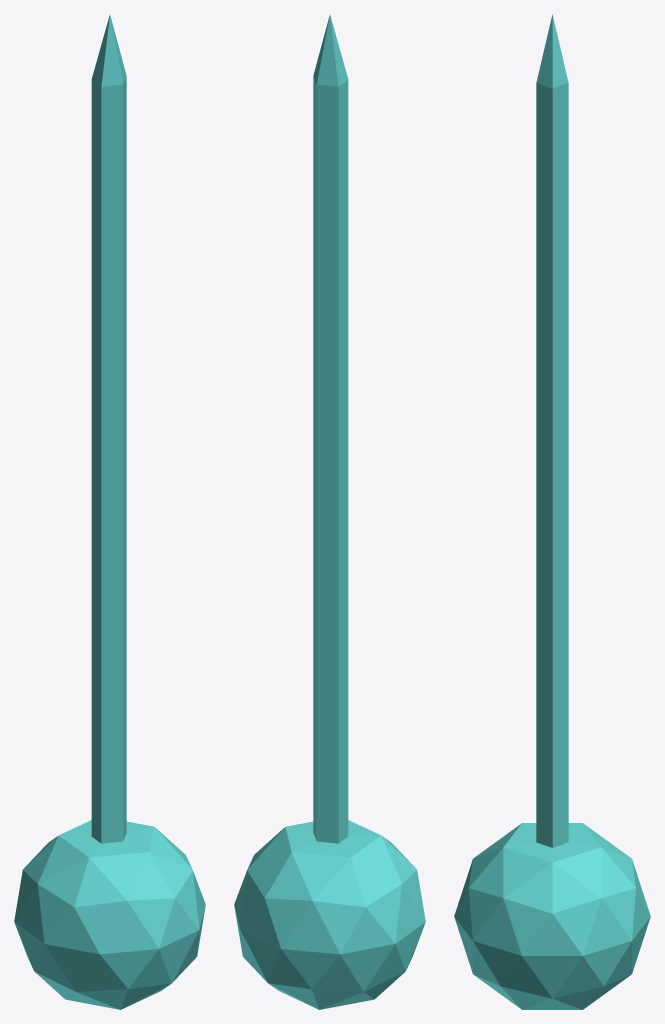
3 renders of one model, left to right at view 1: azimuth 30°, elevation 25°; view 2: azimuth 150°, elevation 25°; view 3: azimuth 270°, elevation 25°, orthographic.
Visible parts, largest first — view 1: Icosphere; view 2: Icosphere; view 3: Icosphere.
Boxes of the visible parts, left/top/right/bottom form: Icosphere: left=14, top=15, right=205, bottom=1009; Icosphere: left=234, top=15, right=425, bottom=1009; Icosphere: left=454, top=14, right=650, bottom=1009.
Size of the model in its own units: 47.55 by 278 by 50.
